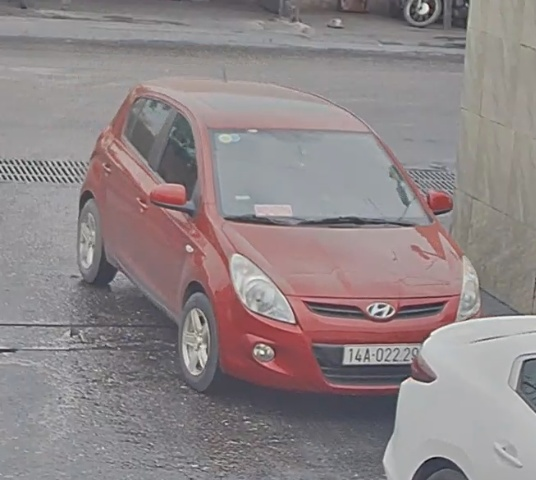vehicle plate: (337, 341, 432, 370)
